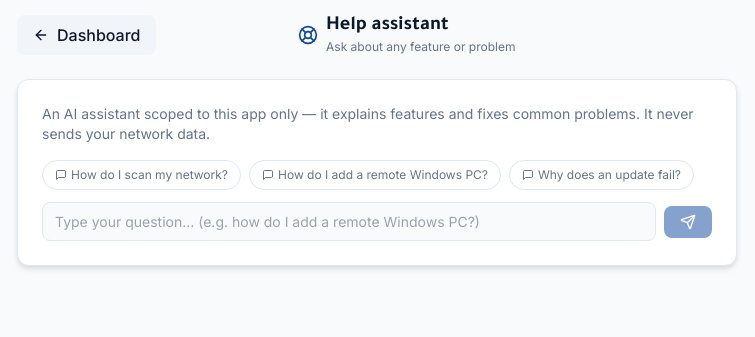
Test case: SupportPage › sends a typed question and renders both bubbles
This screenshot has width=755, height=337.
Type "how do I scan?" into the field named "Help assistant" at [349, 222], box [42, 202, 656, 241]
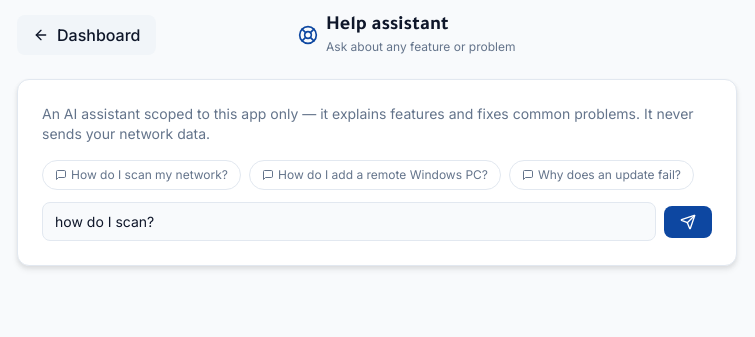
Click the button named "Send" at [688, 222], box [664, 206, 712, 238]
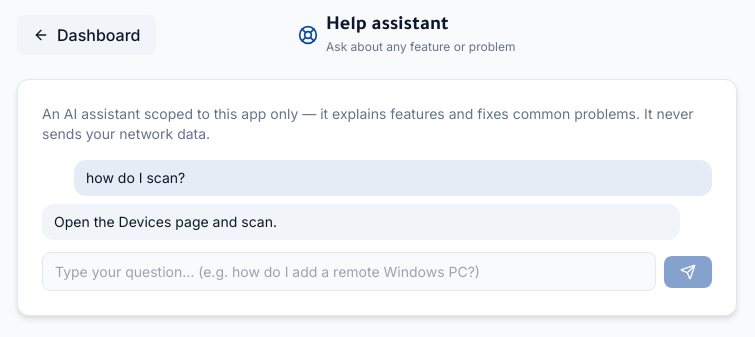
Expected: the text "Open the Devices page and scan." is shown, [42, 204, 680, 240]
Expected: the text "how do I scan?" is shown, [74, 160, 712, 196]
Expected: the field named "Help assistant" is empty, [42, 252, 656, 291]
